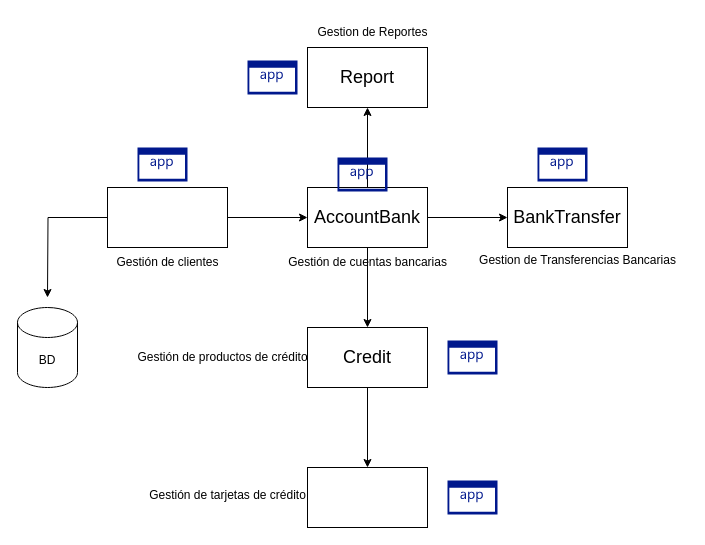
The diagram is 705 pixels wide and 545 high, and some of its shapes have lost their labels. Here are the shapes that lost their labels. From the top down, the centre of each, then its label:
At point (167, 217): "Client".
At point (367, 497): "CreditCard".
